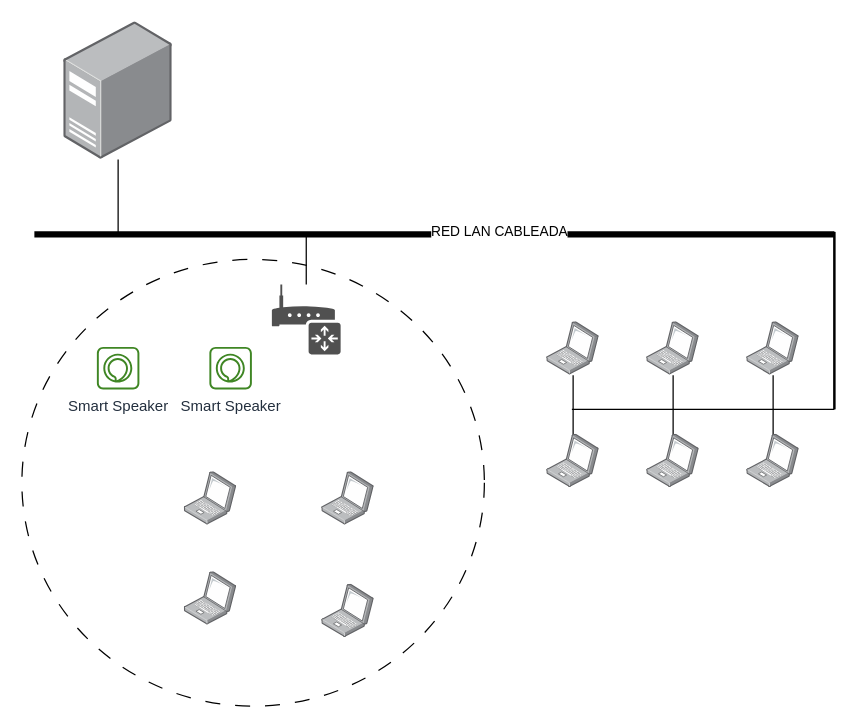
This 860x728 diagram has some shape labels left out. The shapes that lost their labels are listed below. From the top down, each one's box as (x1, y1, x2, y2) in pixels, then its label:
(63, 21, 172, 159): Server
(271, 284, 340, 354): Router
